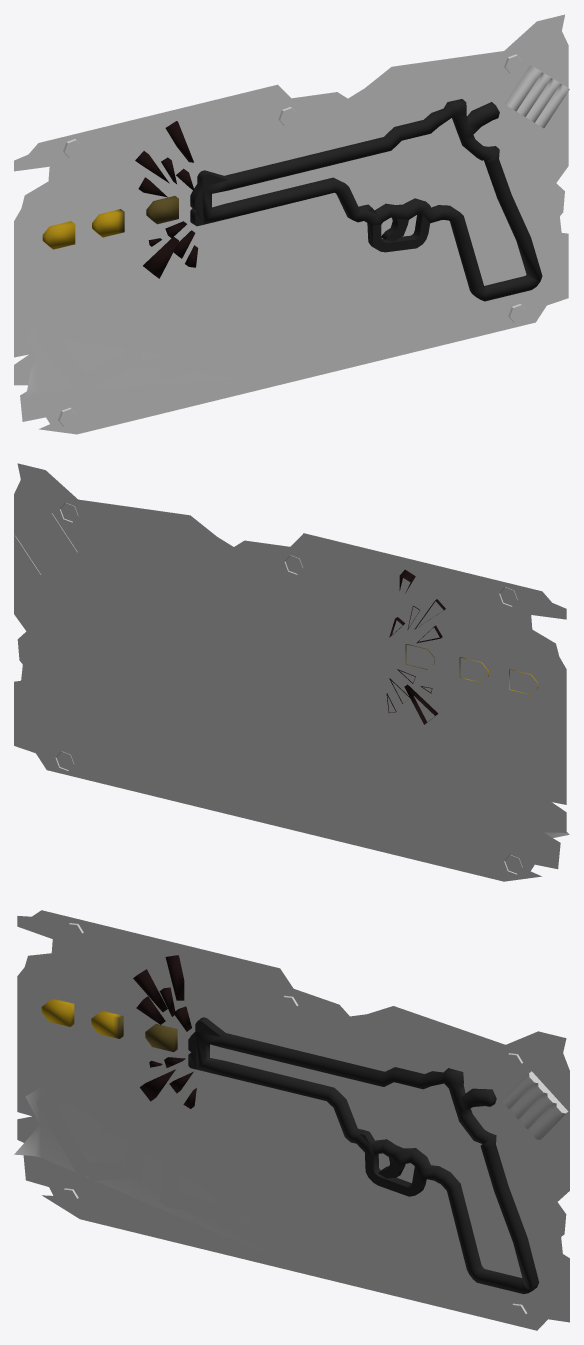
Rendered from Neon Gunz.FBX.
3 renders of one model, top to bottom at view 1: azimuth 30°, elevation 25°; view 2: azimuth 150°, elevation 25°; view 3: azimuth 330°, elevation 25°, orthographic.
Visible parts, largest first — view 1: Sign Gunz, Neon Gun; view 2: Sign Gunz, Neon Gun; view 3: Sign Gunz, Neon Gun.
Part boxes in pixels (left/top/right/bottom): Sign Gunz: left=14, top=14, right=569, bottom=434; Neon Gun: left=42, top=99, right=542, bottom=301; Sign Gunz: left=14, top=463, right=569, bottom=881; Neon Gun: left=386, top=569, right=538, bottom=724; Sign Gunz: left=14, top=910, right=569, bottom=1330; Neon Gun: left=41, top=955, right=539, bottom=1293.
Size of the model in its own units: 68.56 by 35.53 by 3.18.
